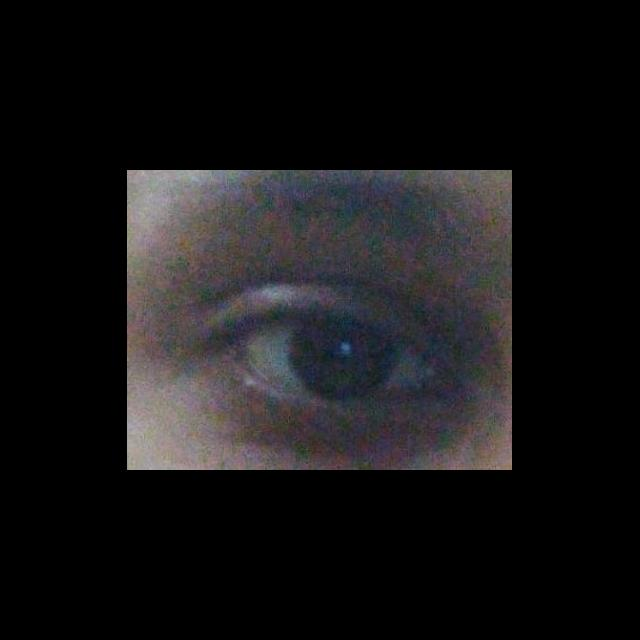eye: (243, 315, 436, 392)
iris: (291, 321, 395, 390)
